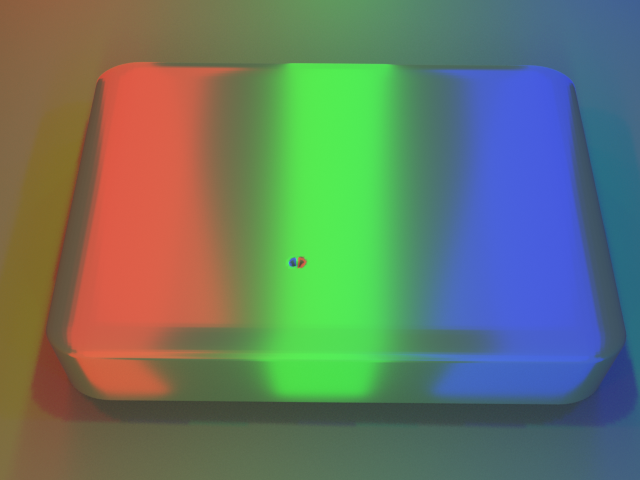dent: (277, 245, 315, 287)
